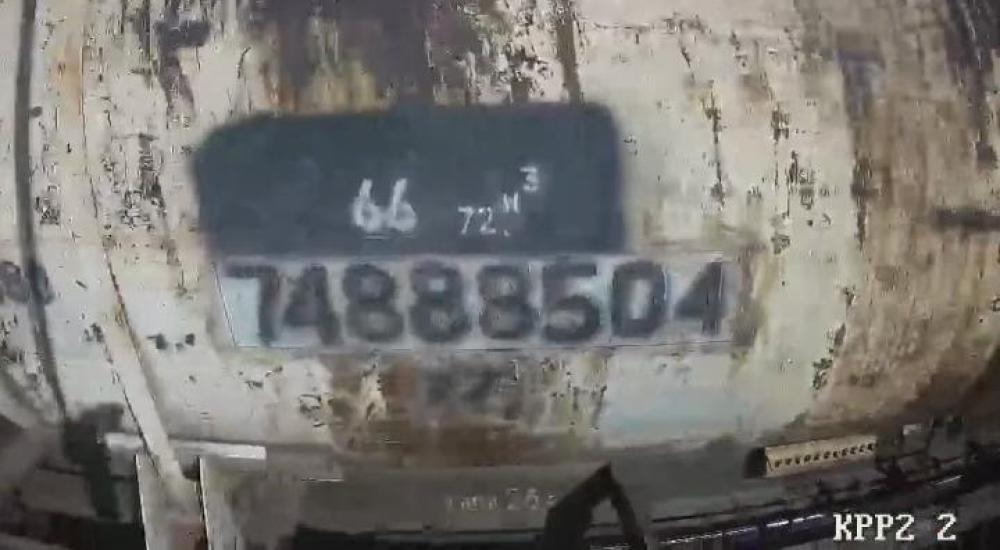Wagon-number: (216, 253, 735, 350)
